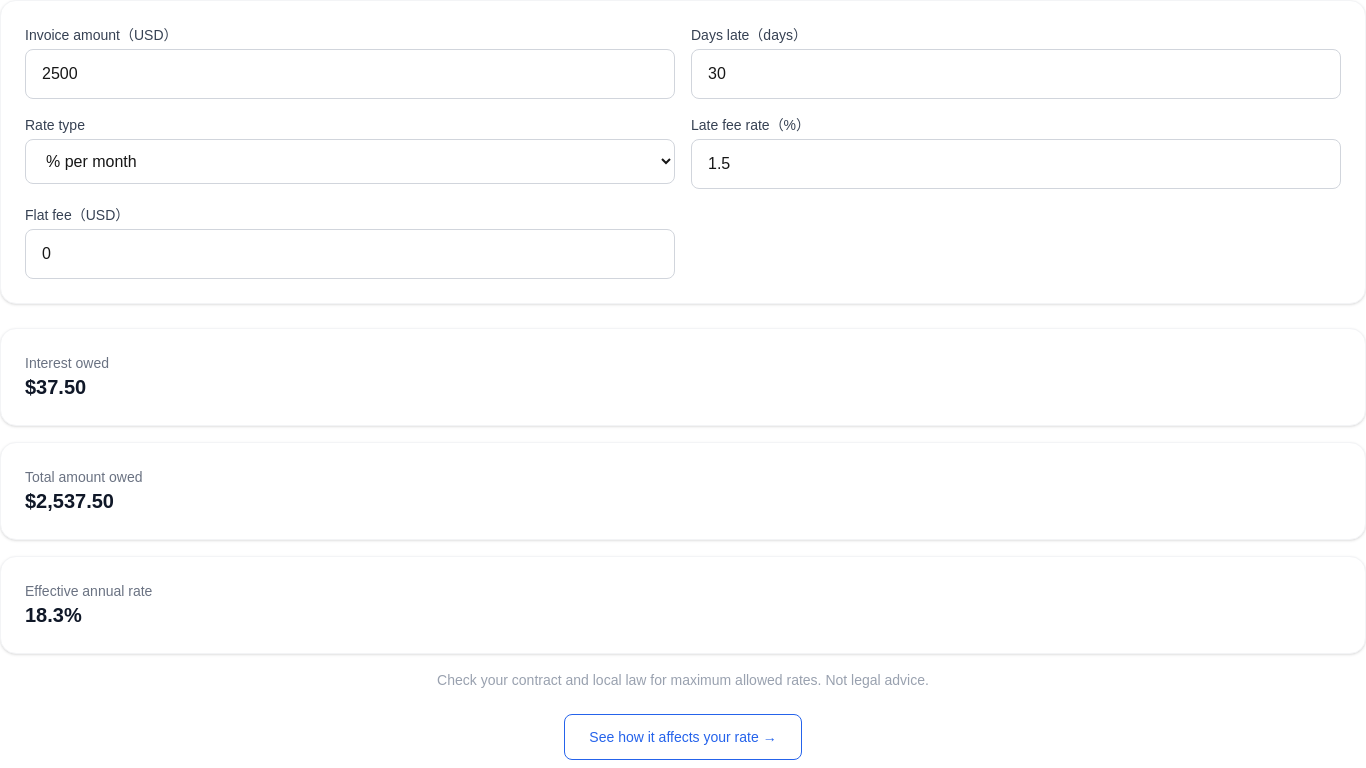
Test: ToolRenderer › select 切換 rate type 後 effective annual rate 跟著變
Expected: the text "18.3%" is shown, [25, 604, 82, 626]
Select "% per year" in the dropdown labelled "Rate type": x=350, y=162 [25, 139, 675, 184]
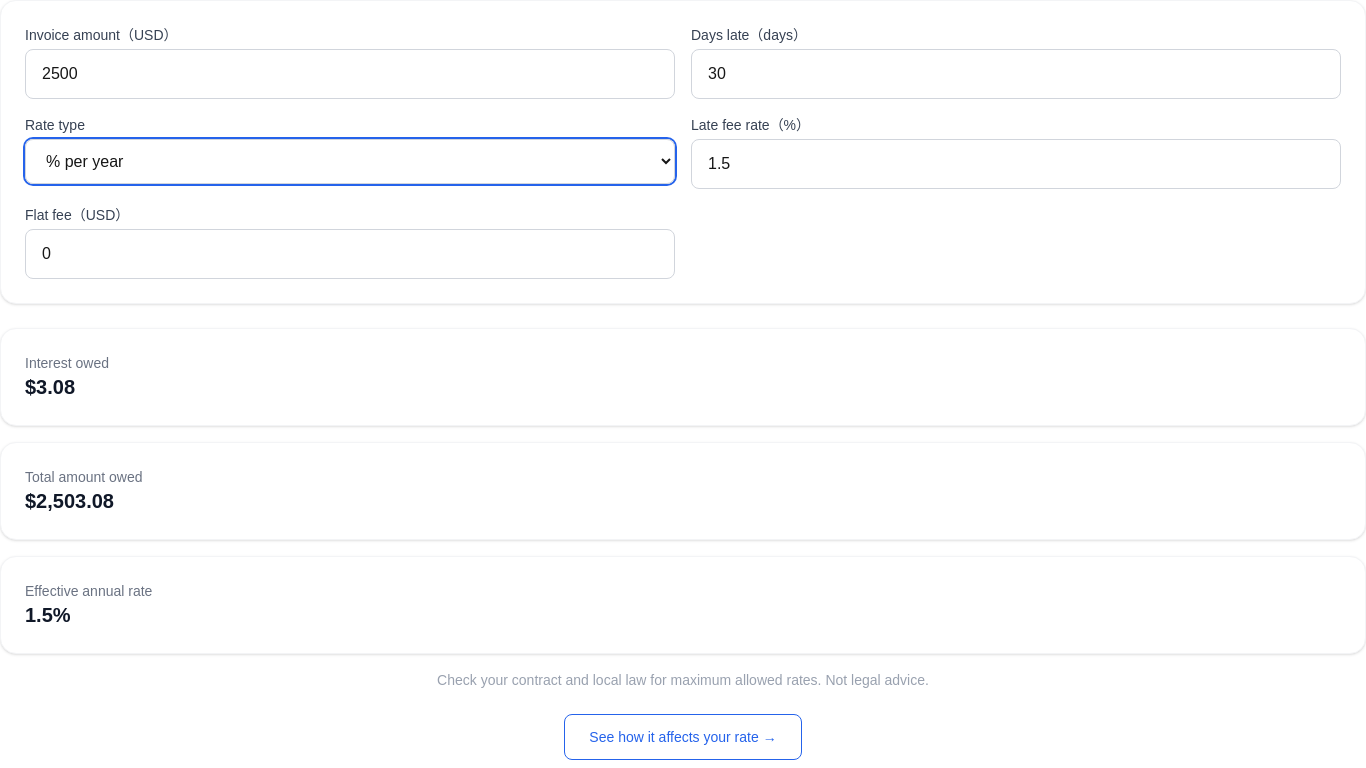
Expected: the text "1.5%" is shown, [25, 604, 71, 626]
